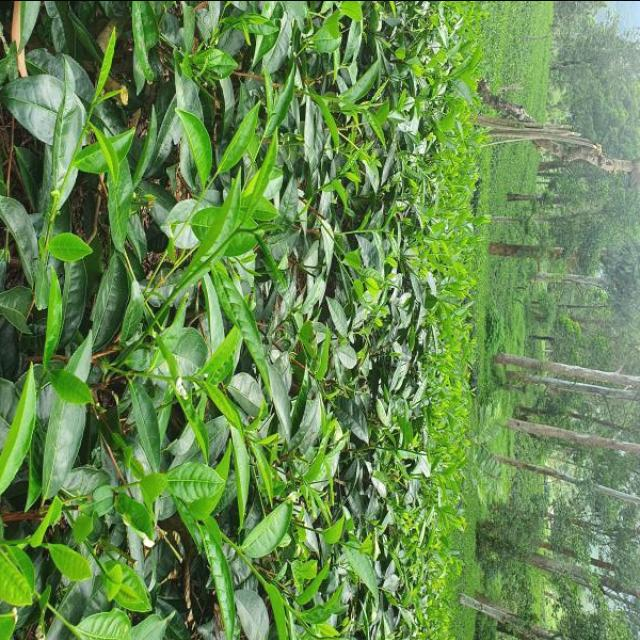Stem: (22, 538, 29, 542), (237, 228, 242, 232), (189, 375, 194, 379)
